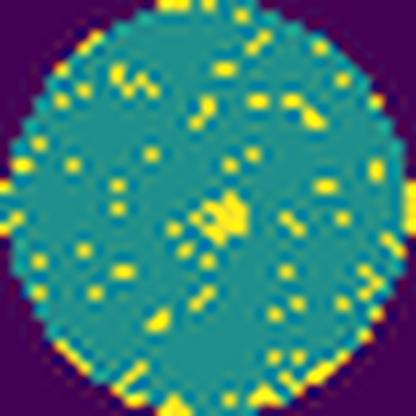Center: (185, 185, 253, 246)
